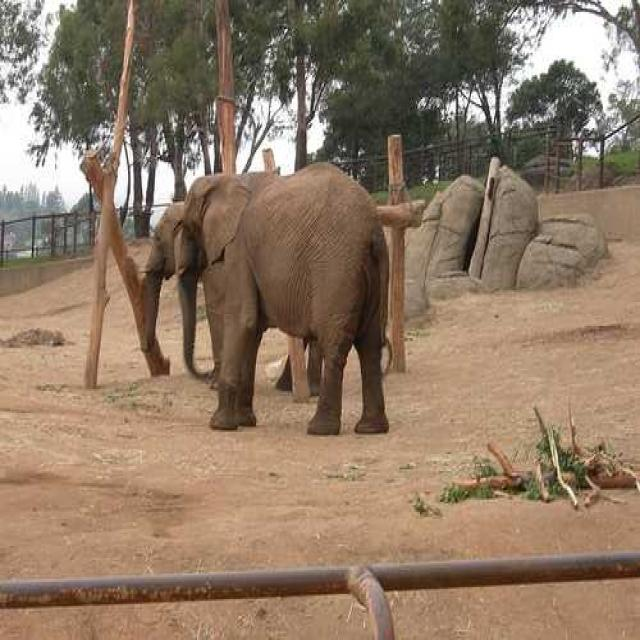Elephant: (178, 168, 398, 444), (140, 205, 189, 361)
